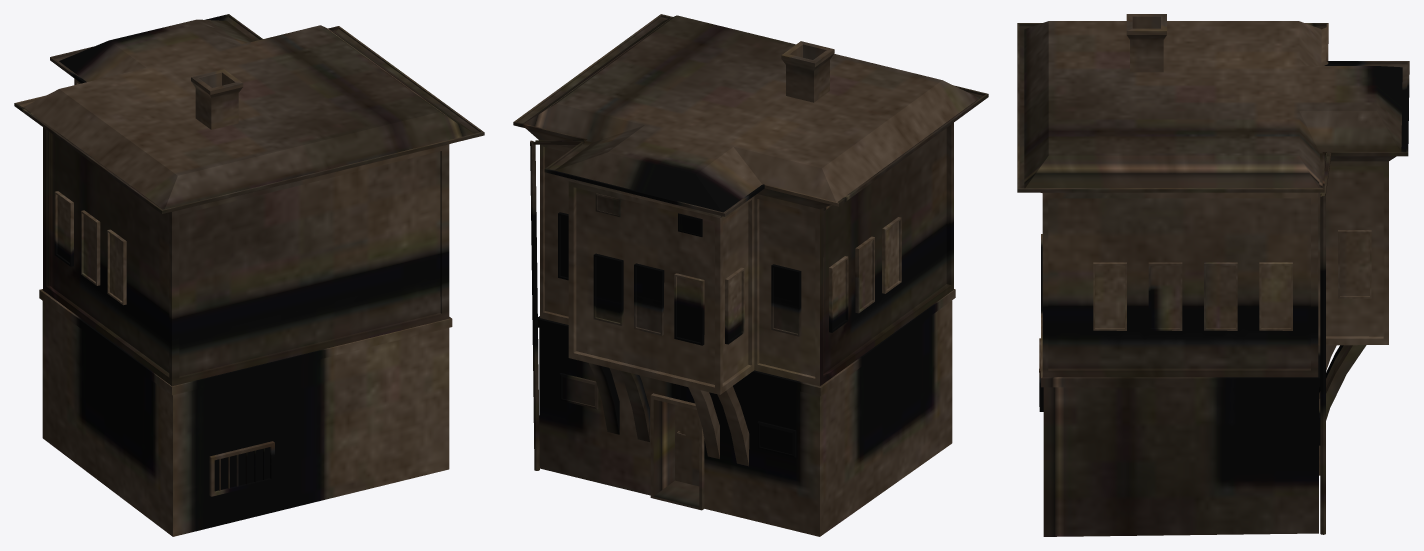
The model's file is City_House_2_BI.fbx.
The picture shows the model from 3 angles, left to right: view 1: azimuth 30°, elevation 25°; view 2: azimuth 150°, elevation 25°; view 3: azimuth 270°, elevation 25°; orthographic projection. The views are drawn at different scales.
Visible parts, largest first — view 1: city_house_2; view 2: city_house_2; view 3: city_house_2.
Part boxes in pixels (x1=…): city_house_2: x1=14, y1=14, x2=484, y2=536; city_house_2: x1=513, y1=14, x2=988, y2=536; city_house_2: x1=1017, y1=14, x2=1409, y2=536.
Size of what is drawn, in the model's own units: 4.02 by 4.74 by 4.01.
